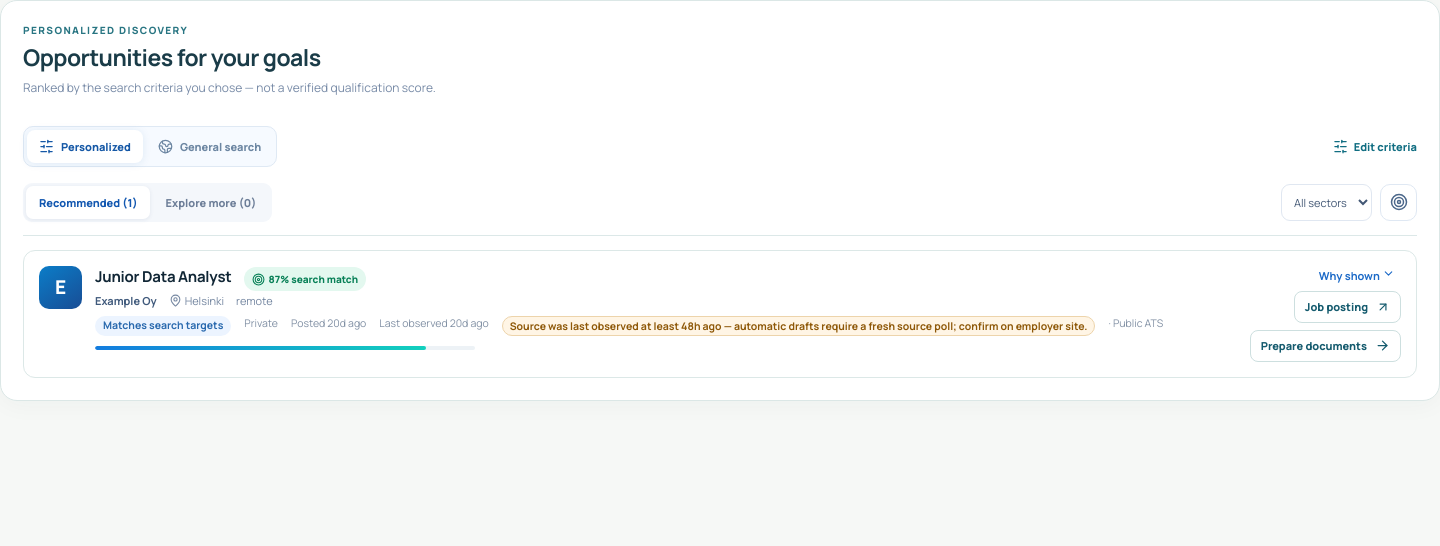
it: job discovery mode semantics › explains preference scores and uncertainty, never claims eligibility verified
The width and height of the screenshot is (1440, 546).
Expected: the text "87% search match" is shown, [244,267,366,291]
What coordinates should you click on to do the following:
click the button "Why shown"
I would click on:
 (1357, 274)
Its box is [1313,266,1401,284].
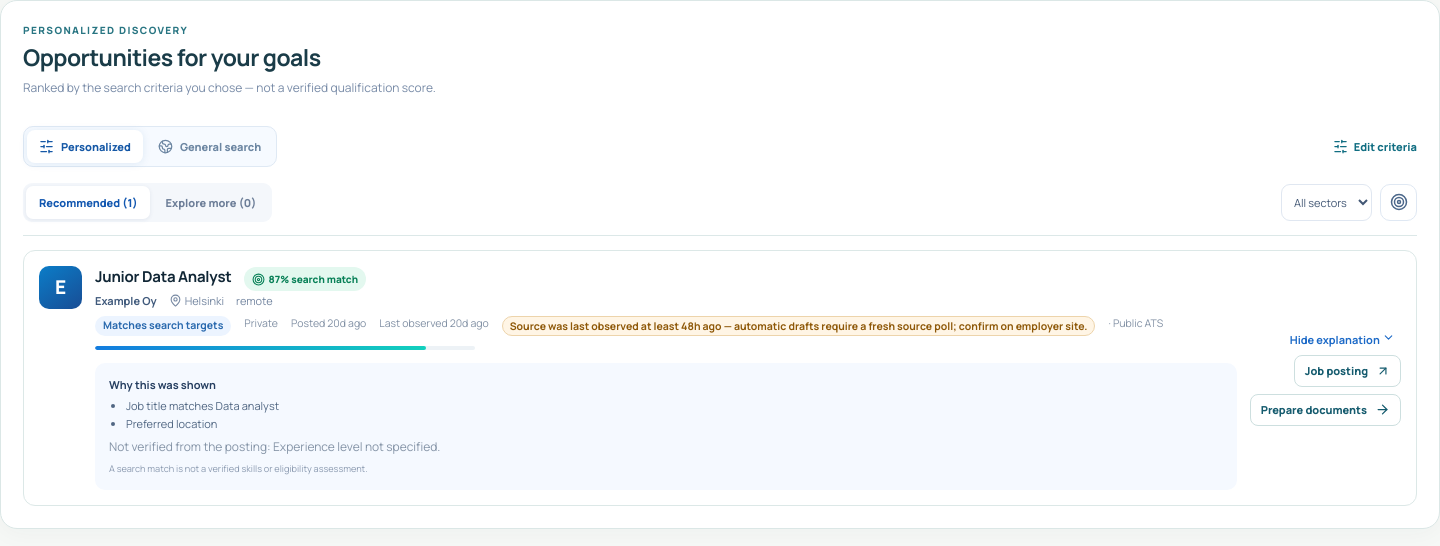
Result: the list item "Job title matches Data analyst" is shown at [126,398,279,412]
Result: the text "Experience level not specified" is shown at [273,438,437,454]
Result: the text "not a verified skills or eligibility assessment" is shown at [109,462,368,475]
